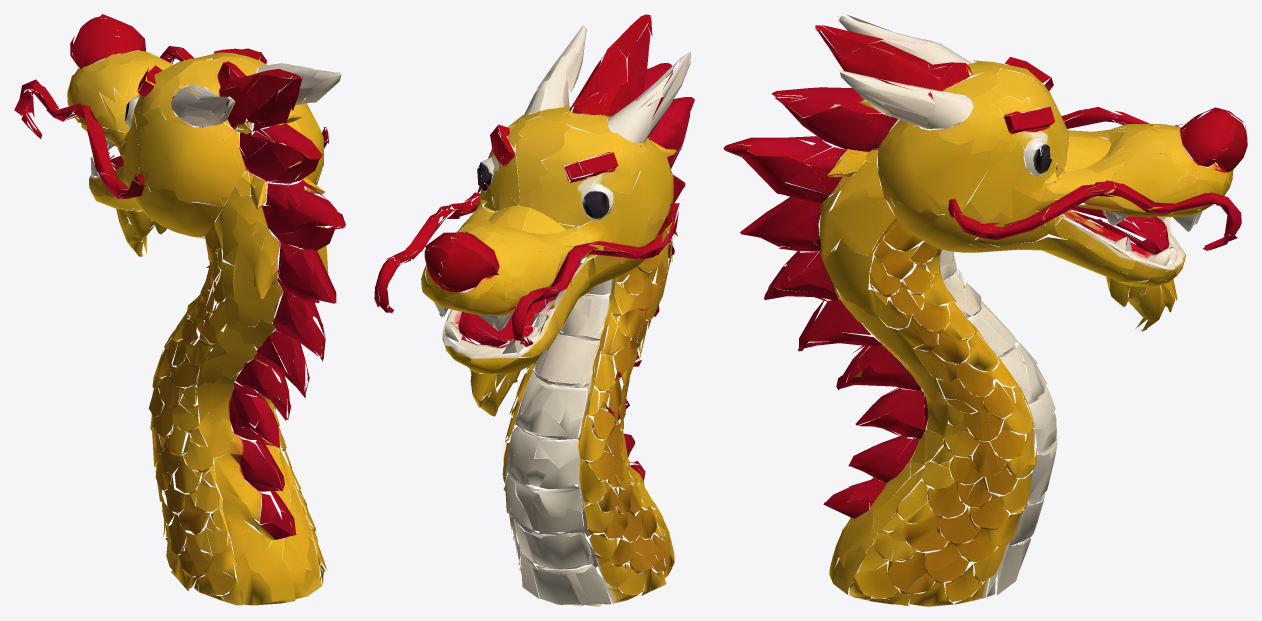
File: dragon-head.glb
3 views of the same model, side by side, from view 1: azimuth 30°, elevation 25°; view 2: azimuth 150°, elevation 25°; view 3: azimuth 270°, elevation 25° (orthographic). The views are drawn at different scales.
Parts seen in each view (by area): view 1: Mesh_0; view 2: Mesh_0; view 3: Mesh_0.
Boxes of the visible parts, x1,y1,x2,y2 form: Mesh_0: [14, 14, 345, 605]; Mesh_0: [374, 14, 694, 606]; Mesh_0: [723, 14, 1247, 606].
Size of the model in its own units: 0.7422 by 1.91 by 1.64.
1 material, 1 textured.
